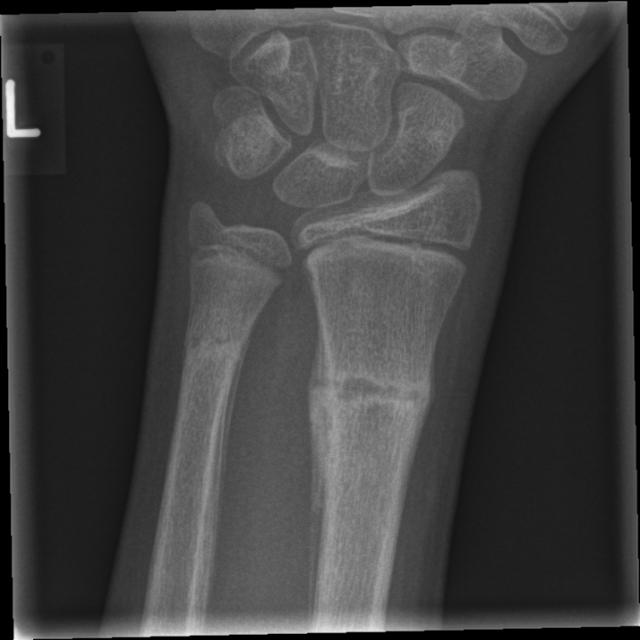radius fracture: (281, 324, 444, 518)
ulna fracture: (171, 295, 250, 427)
